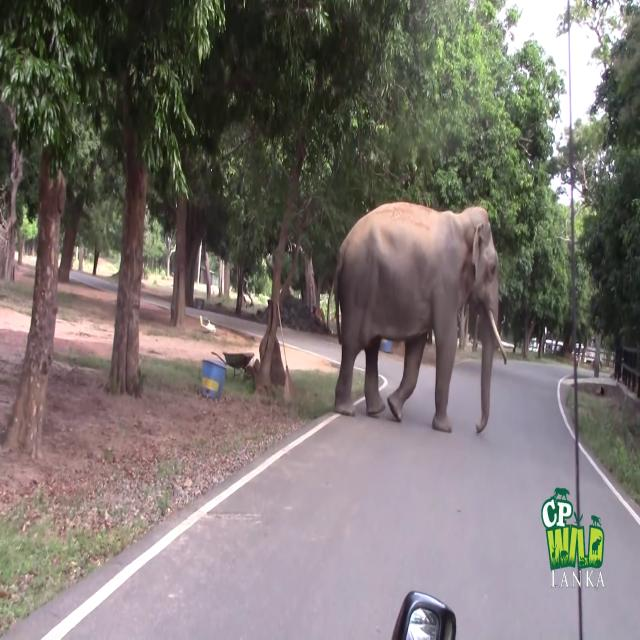Elephant: (332, 200, 508, 434)
